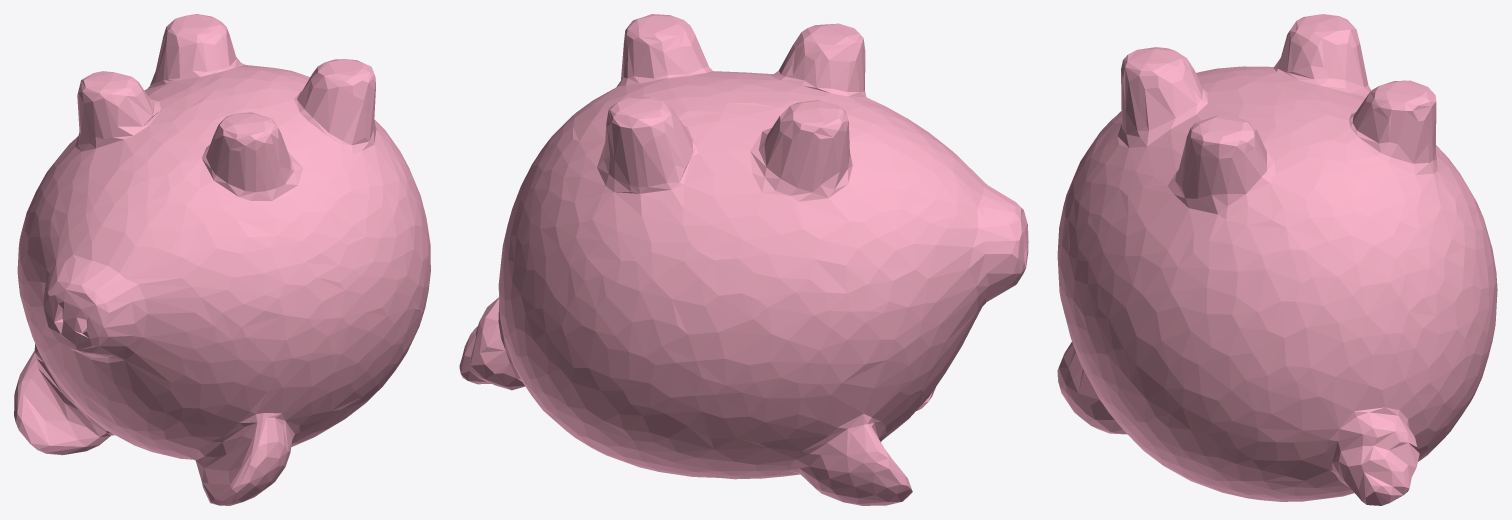
The picture shows the model from 3 angles, left to right: view 1: azimuth 30°, elevation 25°; view 2: azimuth 150°, elevation 25°; view 3: azimuth 270°, elevation 25°; orthographic projection. The views are drawn at different scales.
Parts seen in each view (by area): view 1: world; view 2: world; view 3: world.
Part boxes in pixels (bbox=[...]): world: bbox=[14, 14, 430, 505]; world: bbox=[459, 14, 1028, 505]; world: bbox=[1057, 14, 1497, 505].
Bounding box in the file's own units: 2.91 × 2.36 × 2.39.
